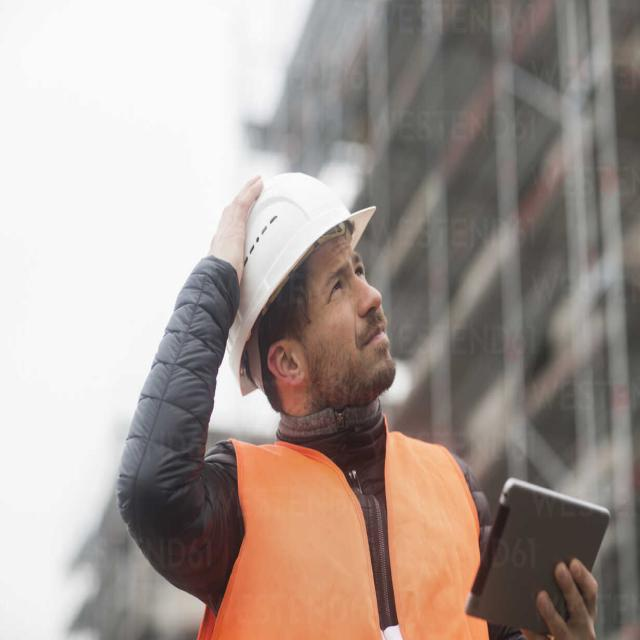helmet: (218, 162, 380, 326)
no-goggles: (281, 247, 380, 314)
vest: (214, 410, 480, 640)
